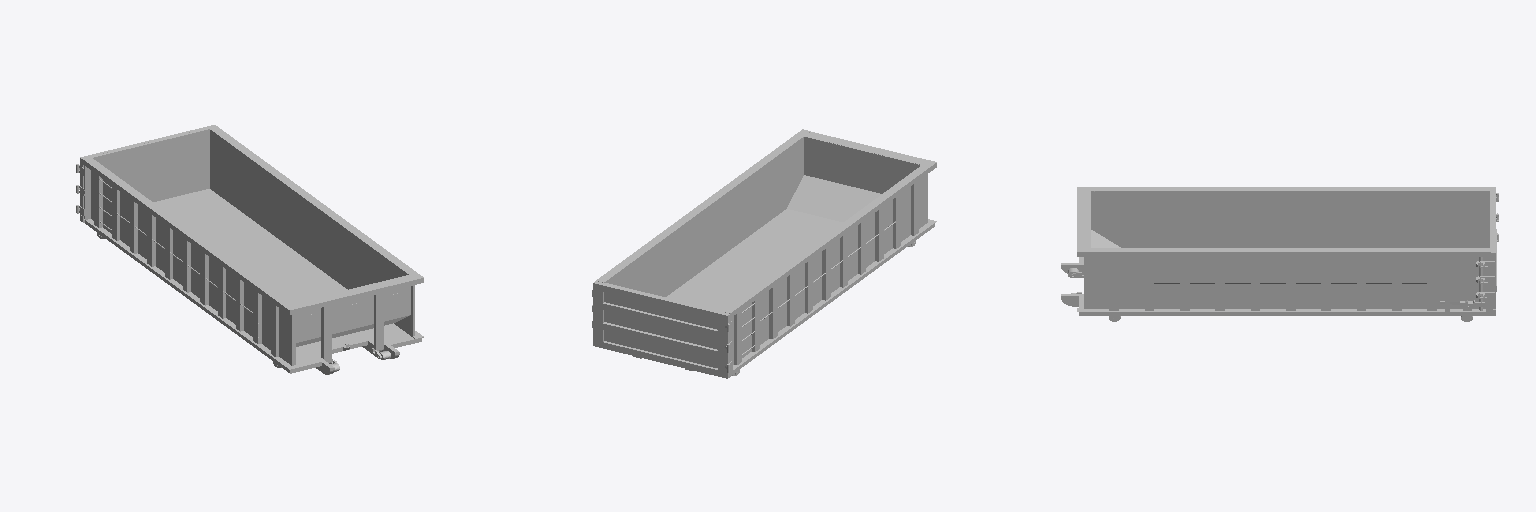
Rendered from 20YardRecDumpsterOrange.obj.
3 renders of one model, left to right at view 1: azimuth 30°, elevation 25°; view 2: azimuth 150°, elevation 25°; view 3: azimuth 270°, elevation 25°, orthographic.
Parts seen in each view (by area): view 1: Object.2; view 2: Object.2; view 3: Object.2.
Boxes of the visible parts, box(x1,y1,x2,y2) form: Object.2: box(76, 125, 423, 374); Object.2: box(592, 129, 936, 378); Object.2: box(1061, 187, 1498, 321).
Bounding box in the file's own units: 93 × 45.32 × 249.